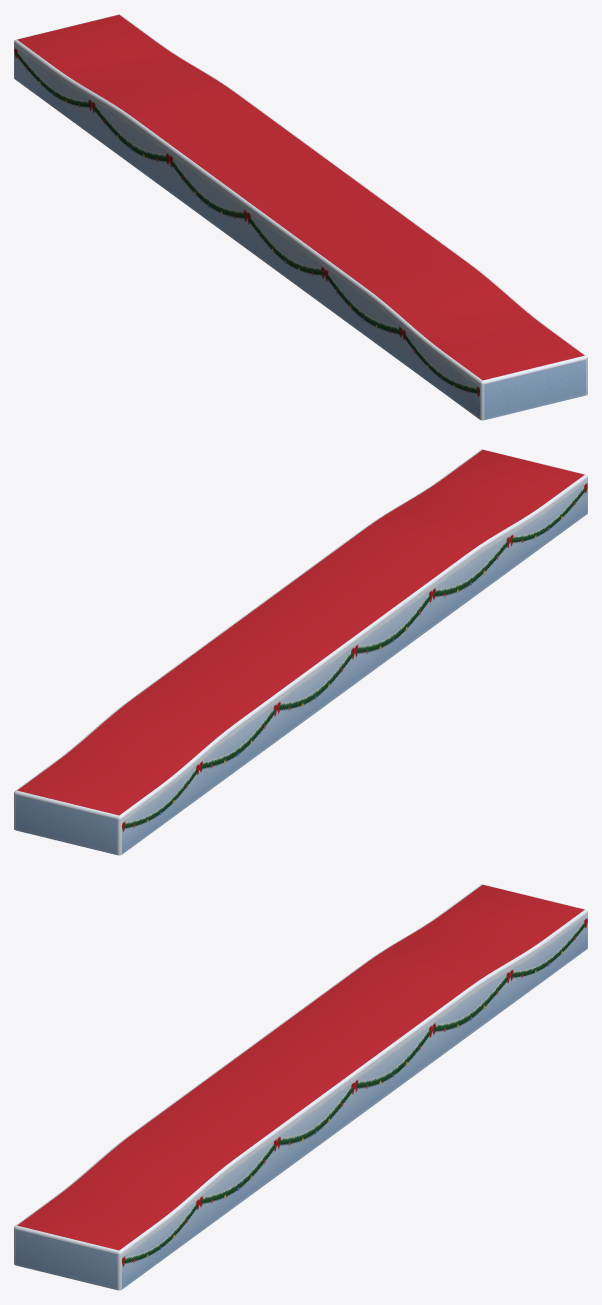
The model's file is SM_FunBox.glb.
The picture shows the model from 3 angles, top to bottom: view 1: azimuth 30°, elevation 25°; view 2: azimuth 150°, elevation 25°; view 3: azimuth 330°, elevation 25°; orthographic projection.
Visible parts, largest first — view 1: SM_FunBox; view 2: SM_FunBox; view 3: SM_FunBox.
Boxes of the visible parts, left/top/right/bottom form: SM_FunBox: left=14, top=14, right=587, bottom=420; SM_FunBox: left=14, top=449, right=587, bottom=855; SM_FunBox: left=14, top=884, right=587, bottom=1290.
Size of the model in its own units: 1.6 by 0.65 by 12.08.
Materials: 3 (1 with a texture image).
